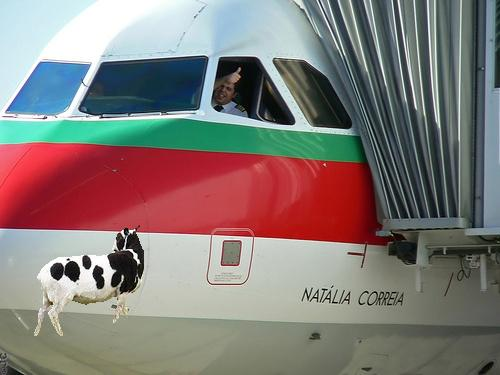tampered: (35, 226, 144, 336)
